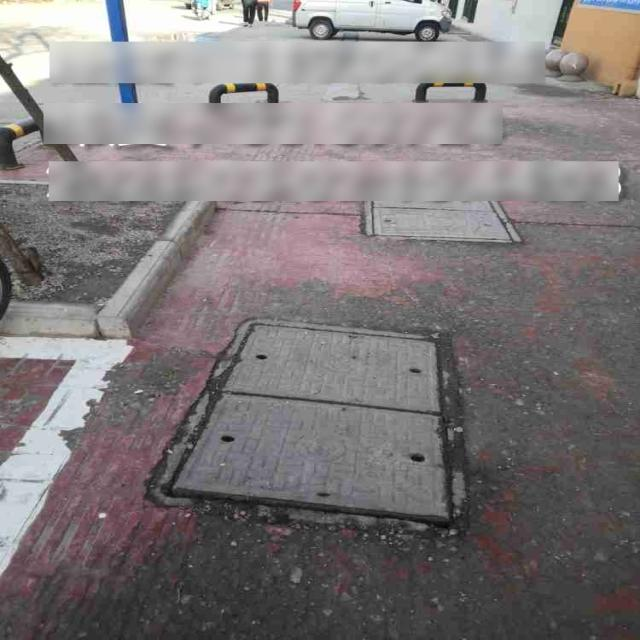Good: (160, 308, 482, 541), (353, 166, 535, 249)
